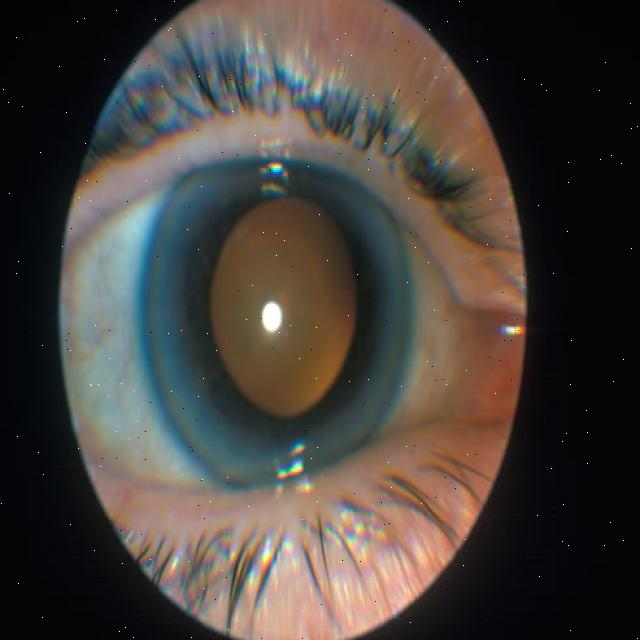Cataract: (140, 106, 414, 514)
